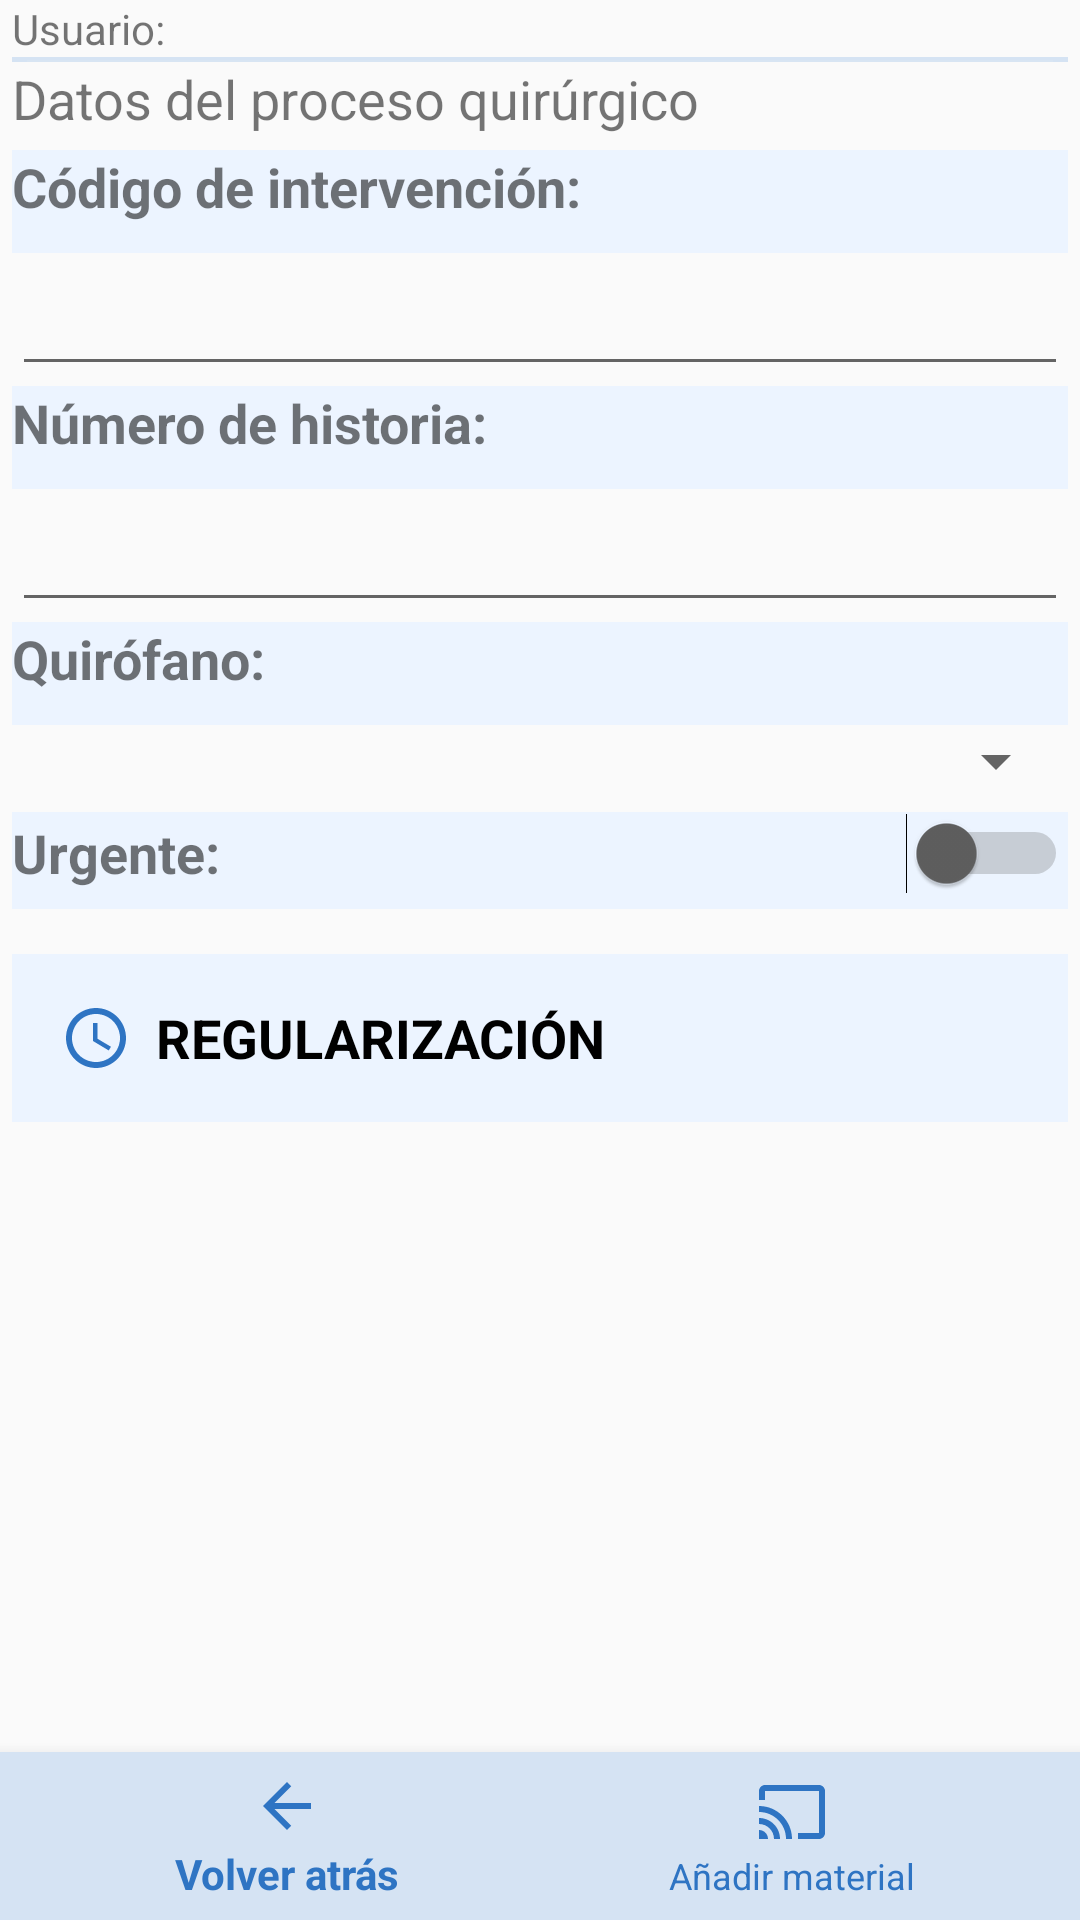

Icons on this 1080w x 1920h Android screen, each with its box as (x1, y1, x2, y2):
access time: (66, 1008, 126, 1068)
